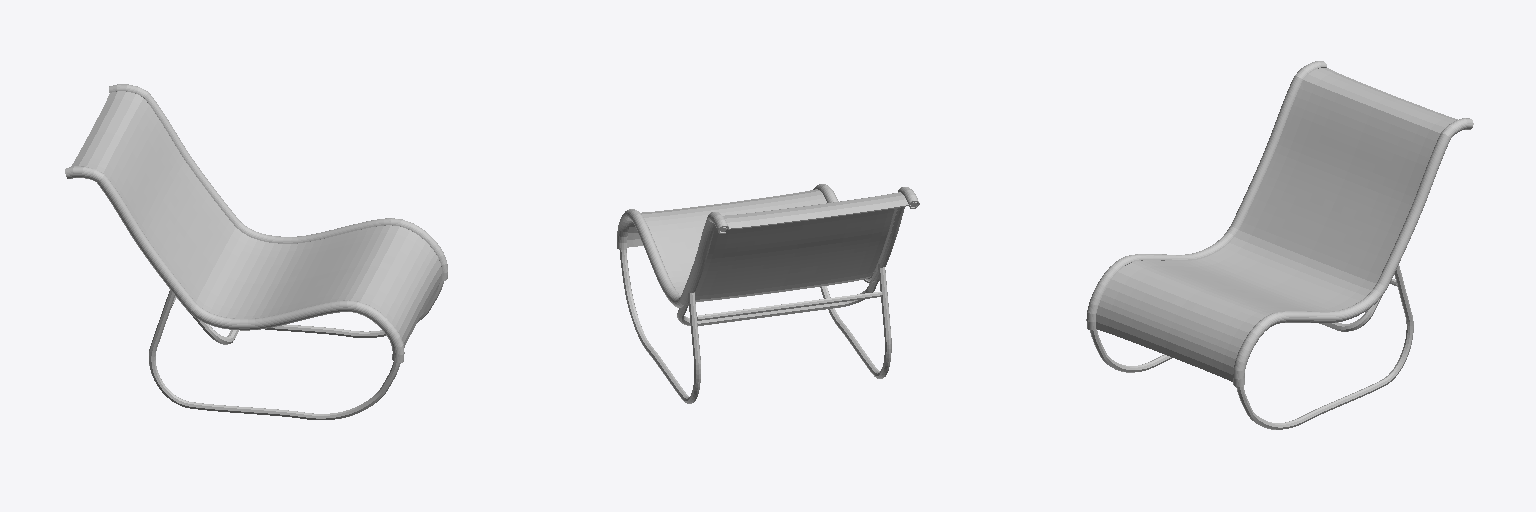
File: IKEA-Emmabo_Rocking_Chair-3D.obj
3 views of the same model, side by side, from view 1: azimuth 30°, elevation 25°; view 2: azimuth 150°, elevation 25°; view 3: azimuth 270°, elevation 25° (orthographic).
Visible parts, largest first — view 1: Object01, Loft02; view 2: Object01, Loft02; view 3: Object01, Loft02.
Part boxes in pixels (x1,y1,x2,y2): Object01: (65,84,447,362); Loft02: (149,281,443,419); Object01: (617,184,919,307); Loft02: (620,202,916,403); Object01: (1086,61,1473,386); Loft02: (1090,265,1413,429).
Bounding box in the file's own units: 1839 × 1190 × 1803.